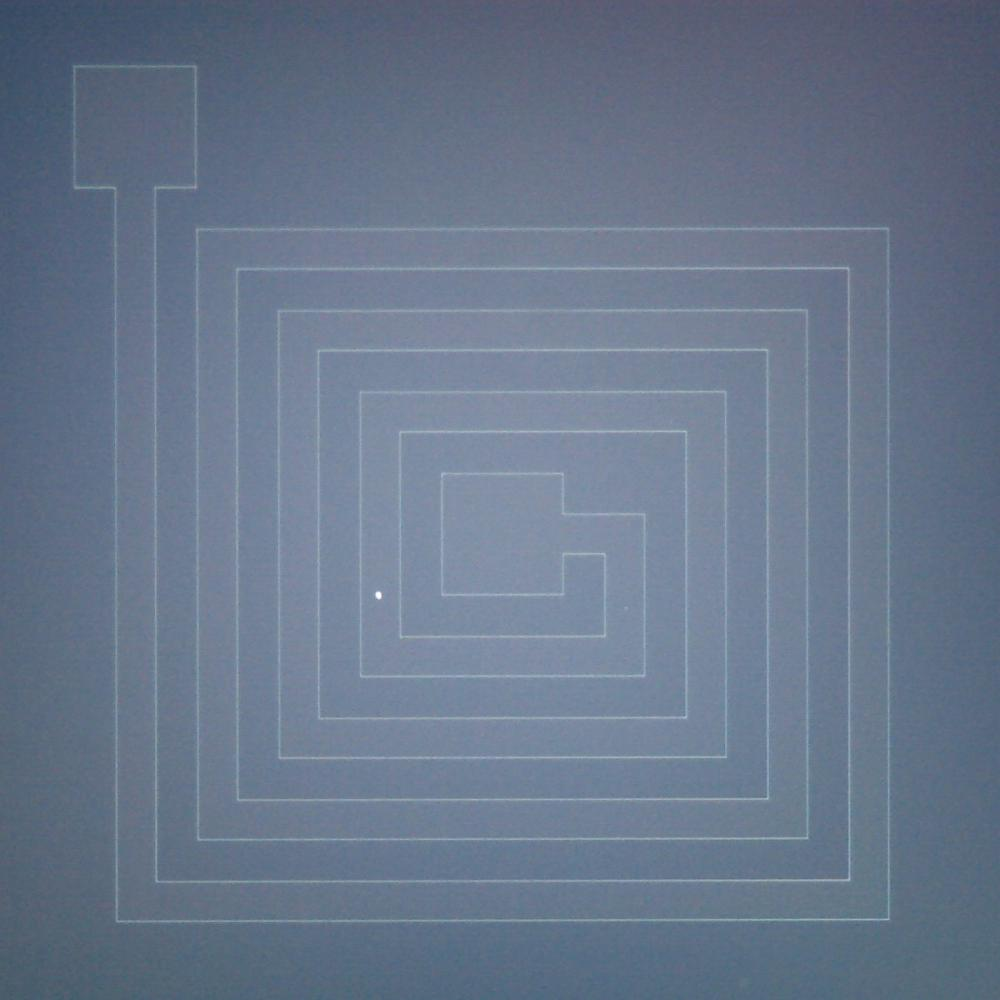dot: (375, 592, 383, 599), (624, 606, 628, 610)
